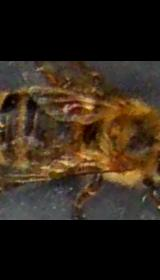varroa_mite: (58, 94, 84, 123)
